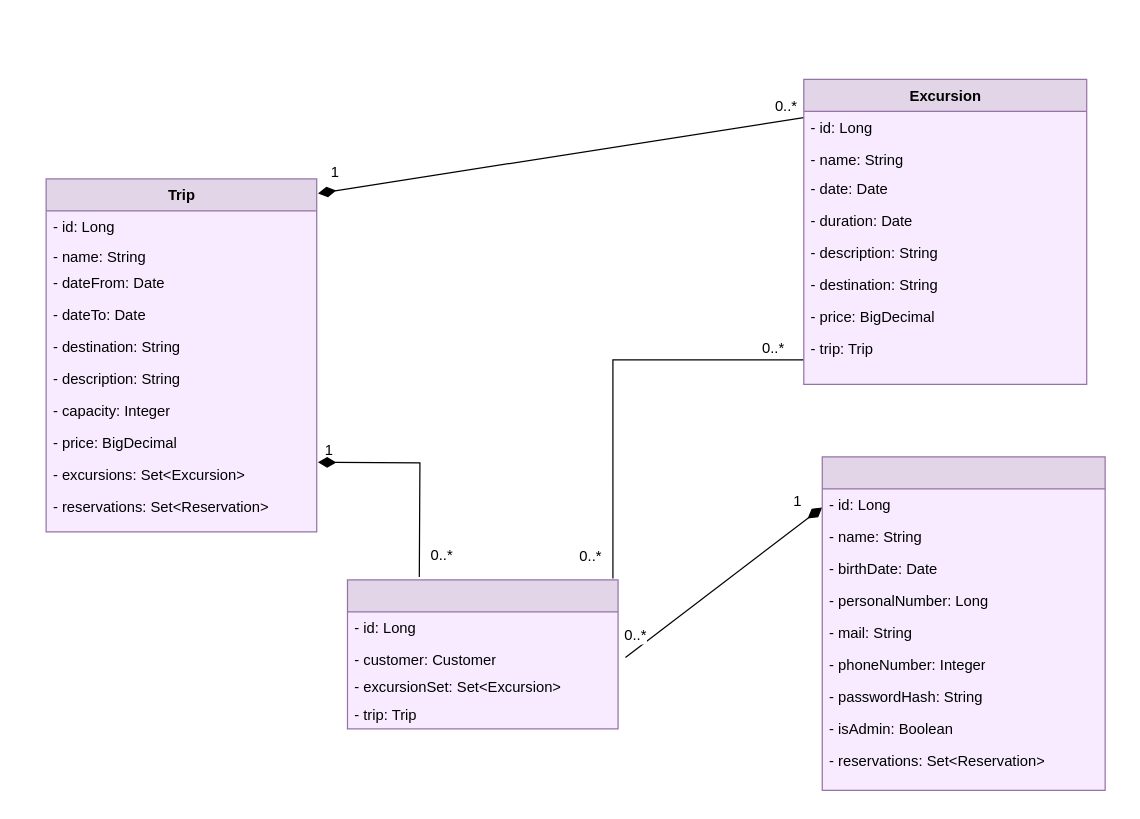
Image size: 1140x819. Some labels were removed from this diagram. Each missing label, with the box of its shape:
Reservation: (346, 579, 618, 729)
User: (821, 456, 1105, 790)
